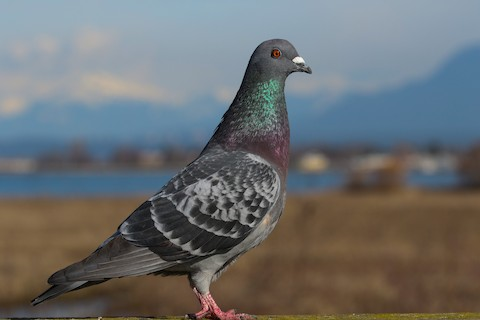pigeon: (25, 34, 317, 318)
